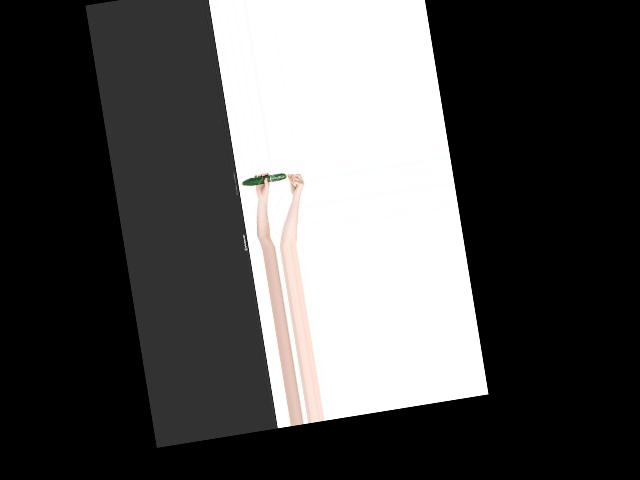cucumber: (240, 172, 286, 186)
